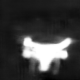plane: (20, 35, 73, 74)
